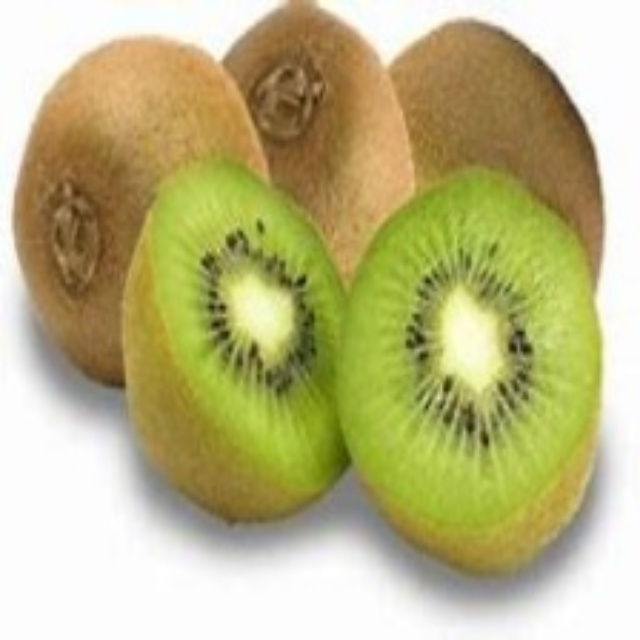kiwi: (349, 168, 598, 583), (22, 39, 272, 411), (118, 167, 367, 535), (376, 16, 612, 282), (215, 2, 418, 283)
